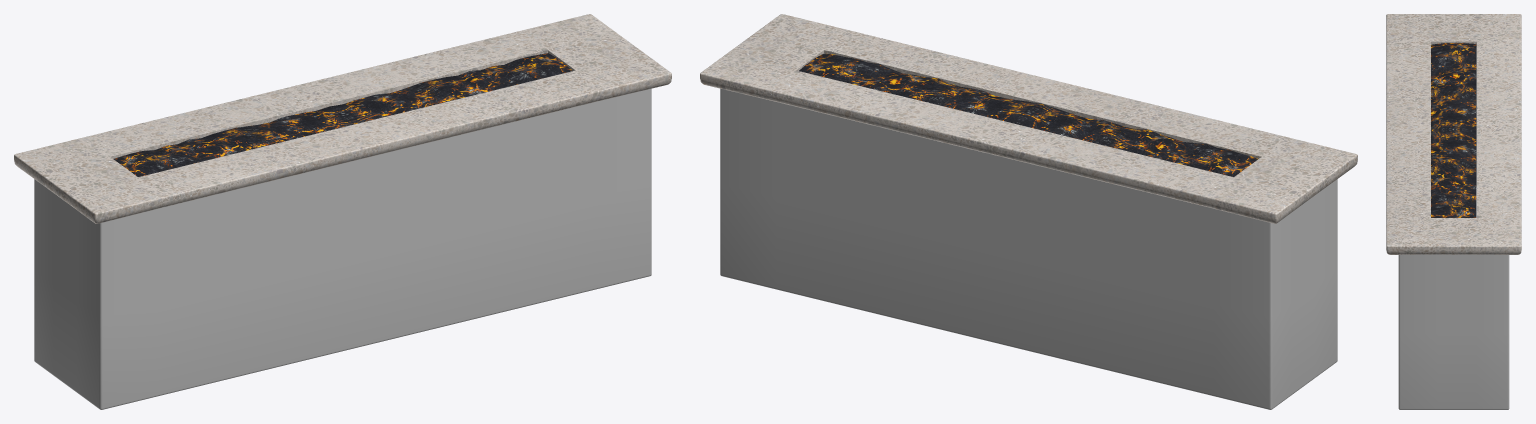
File: GardenFirePlace01_3.FBX
3 renders of one model, left to right at view 1: azimuth 30°, elevation 25°; view 2: azimuth 150°, elevation 25°; view 3: azimuth 270°, elevation 25°, orthographic. The views are drawn at different scales.
Visible parts, largest first — view 1: GardenFirePlace01_3; view 2: GardenFirePlace01_3; view 3: GardenFirePlace01_3.
Boxes of the visible parts, x1,y1,x2,y2 form: GardenFirePlace01_3: (14,14,671,409); GardenFirePlace01_3: (700,14,1357,409); GardenFirePlace01_3: (1386,14,1521,409).
Size of what is drawn, in the model's own units: 2.06 by 0.7087 by 0.506.
